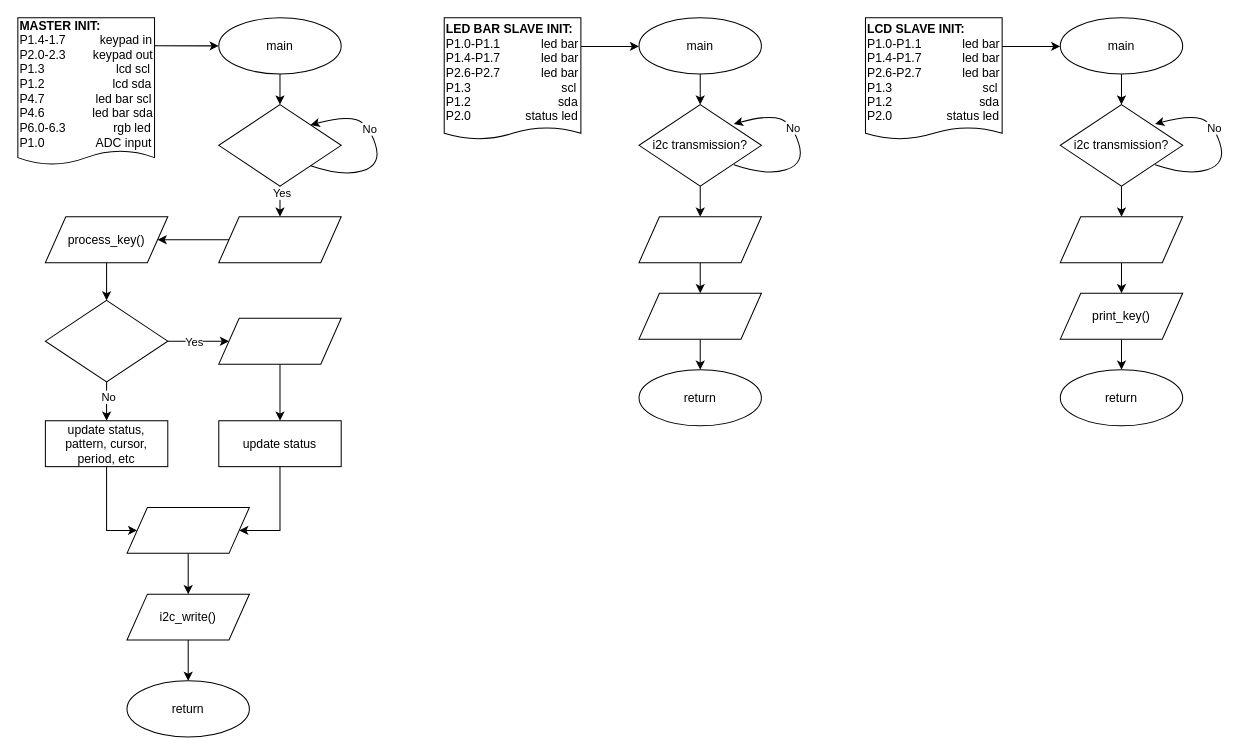
The diagram is 1240 pixels wide and 755 high, and some of its shapes have lost their labels. Each missing label, with the centre of its shape:
"check_password()" belongs at (x=279, y=340).
"get_key()" belongs at (x=279, y=239).
"is key pressed?" belongs at (x=279, y=145).
"is locked or unlocking?" belongs at (x=106, y=340).
"print_pattern()" belongs at (x=1121, y=239).
"process_i2c_data()" belongs at (x=699, y=239).
"update_led_bar()" belongs at (x=699, y=315).
"update_rgb_led()" belongs at (x=187, y=529).
